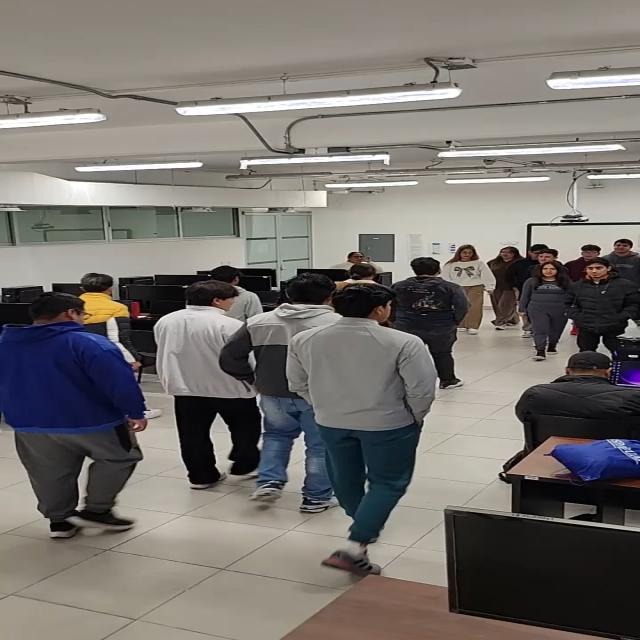Persona: (284, 282, 439, 578), (1, 291, 149, 539), (218, 273, 356, 513), (154, 279, 268, 490), (387, 256, 471, 391), (564, 256, 640, 354), (516, 260, 572, 360), (440, 244, 499, 336), (516, 243, 566, 338), (483, 246, 526, 331), (563, 243, 612, 288), (599, 238, 640, 285)
